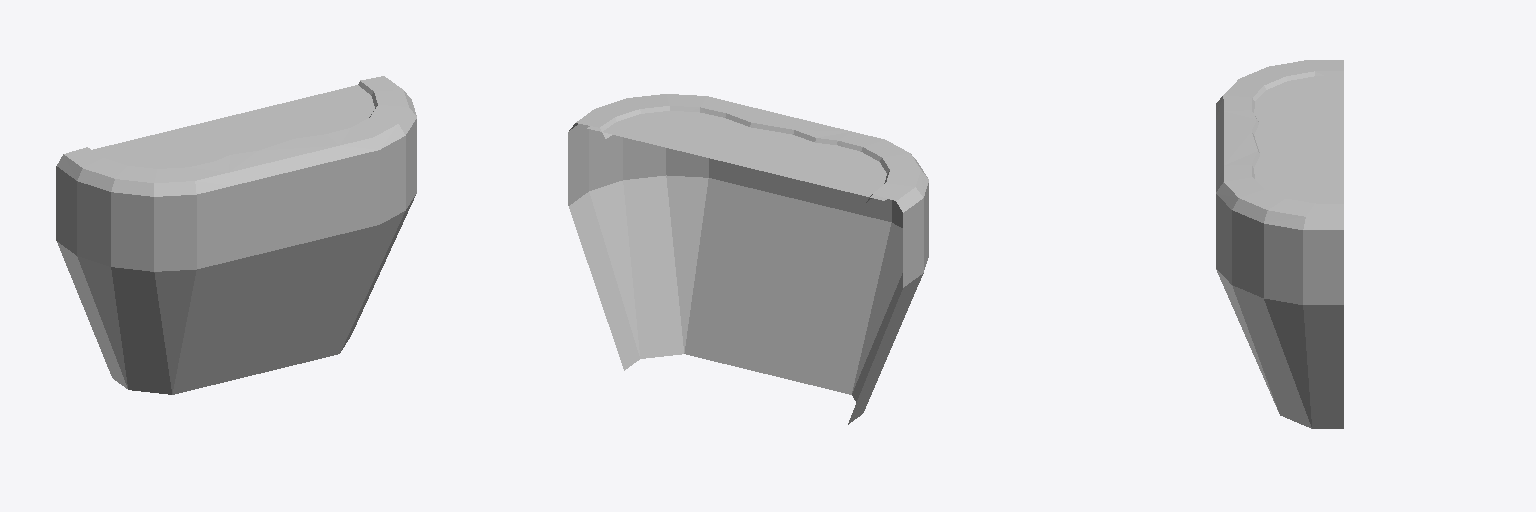
File: module_end_a.obj
3 views of the same model, side by side, from view 1: azimuth 30°, elevation 25°; view 2: azimuth 150°, elevation 25°; view 3: azimuth 270°, elevation 25° (orthographic).
Visible parts, largest first — view 1: module_end_a; view 2: module_end_a; view 3: module_end_a.
Boxes of the visible parts, <box> form: module_end_a: <box>56,76,416,394</box>; module_end_a: <box>568,94,928,424</box>; module_end_a: <box>1216,60,1343,428</box>.
Size of the model in its own units: 600 by 406 by 200.